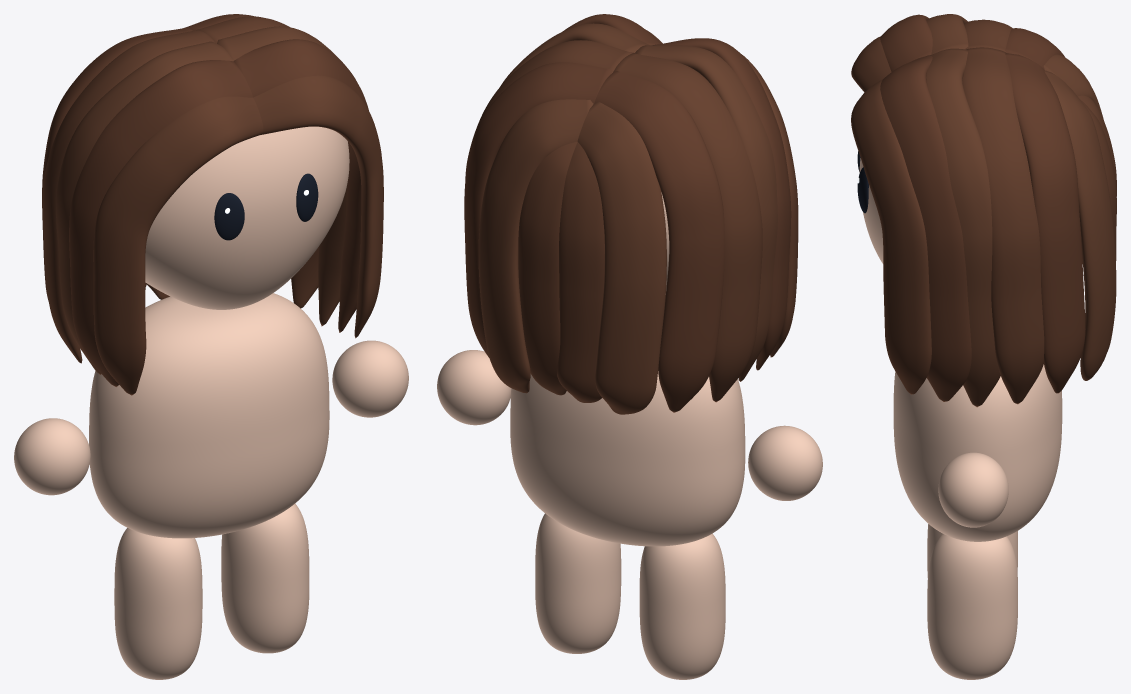
The model's file is Feminine-skin0.glb.
The picture shows the model from 3 angles, left to right: view 1: azimuth 30°, elevation 25°; view 2: azimuth 150°, elevation 25°; view 3: azimuth 270°, elevation 25°; orthographic projection. The views are drawn at different scales.
Visible parts, largest first — view 1: Skin / compact torso with skirt outline, Skin / soft oval head, Hair / Straight -1 0, Hair / Straight -1 1, Skin / leg -1, Skin / leg 1, Hair / Straight 1 0, Hair / Straight 1 1, Hair / Straight -1 2, Hair / Straight -1 3, Skin / hand 1, Skin / hand -1 (+5 smaller); view 2: Skin / compact torso with skirt outline, Hair / Straight -1 4, Hair / Straight -1 5, Hair / Straight -1 3, Hair / Straight 1 5, Skin / leg -1, Hair / Straight -1 6, Skin / leg 1, Hair / Straight 1 6, Hair / Straight 1 4, Hair / Straight -1 2, Hair / Straight -1 1 (+6 smaller); view 3: Skin / compact torso with skirt outline, Hair / Straight 1 3, Hair / Straight 1 4, Hair / Straight 1 1, Hair / Straight 1 0, Skin / leg 1, Hair / Straight 1 2, Hair / Straight 1 5, Skin / hand 1, Hair / Straight -1 1, Hair / Straight -1 0, Hair / Straight -1 4 (+7 smaller).
Boxes of the visible parts, box(x1,y1,x2,y2) form: Skin / compact torso with skirt outline: box(89, 293, 329, 538); Skin / soft oval head: box(145, 126, 349, 309); Hair / Straight -1 0: box(93, 96, 263, 395); Hair / Straight -1 1: box(69, 60, 252, 386); Skin / leg -1: box(114, 528, 202, 679); Skin / leg 1: box(221, 503, 309, 653); Hair / Straight 1 0: box(253, 75, 383, 338); Hair / Straight 1 1: box(233, 39, 368, 332); Hair / Straight -1 2: box(56, 41, 233, 374); Hair / Straight -1 3: box(42, 30, 214, 363); Skin / hand 1: box(332, 340, 408, 417); Skin / hand -1: box(14, 418, 90, 495); Skin / compact torso with skirt outline: box(510, 371, 745, 546); Hair / Straight -1 4: box(594, 71, 724, 412); Hair / Straight -1 5: box(577, 101, 666, 414); Hair / Straight -1 3: box(613, 53, 762, 402); Hair / Straight 1 5: box(478, 99, 593, 393); Skin / leg -1: box(639, 533, 725, 679); Hair / Straight -1 6: box(557, 142, 604, 402); Skin / leg 1: box(535, 513, 621, 653); Hair / Straight 1 6: box(518, 141, 577, 395); Hair / Straight 1 4: box(464, 62, 612, 357); Hair / Straight -1 2: box(635, 45, 777, 381); Hair / Straight -1 1: box(653, 38, 791, 370); Skin / compact torso with skirt outline: box(893, 364, 1062, 541); Hair / Straight 1 3: box(962, 47, 1044, 404); Hair / Straight 1 4: box(1005, 53, 1085, 393); Hair / Straight 1 1: box(880, 55, 971, 401); Hair / Straight 1 0: box(851, 79, 931, 394); Skin / leg 1: box(927, 534, 1017, 679); Hair / Straight 1 2: box(926, 48, 1000, 407); Hair / Straight 1 5: box(1044, 70, 1116, 380); Skin / hand 1: box(938, 452, 1008, 527); Hair / Straight -1 1: box(880, 14, 932, 71); Hair / Straight -1 0: box(851, 36, 891, 92); Hair / Straight -1 4: box(1005, 28, 1082, 263).
Bounding box in the file's own units: 1.49 × 2.31 × 0.9206.
